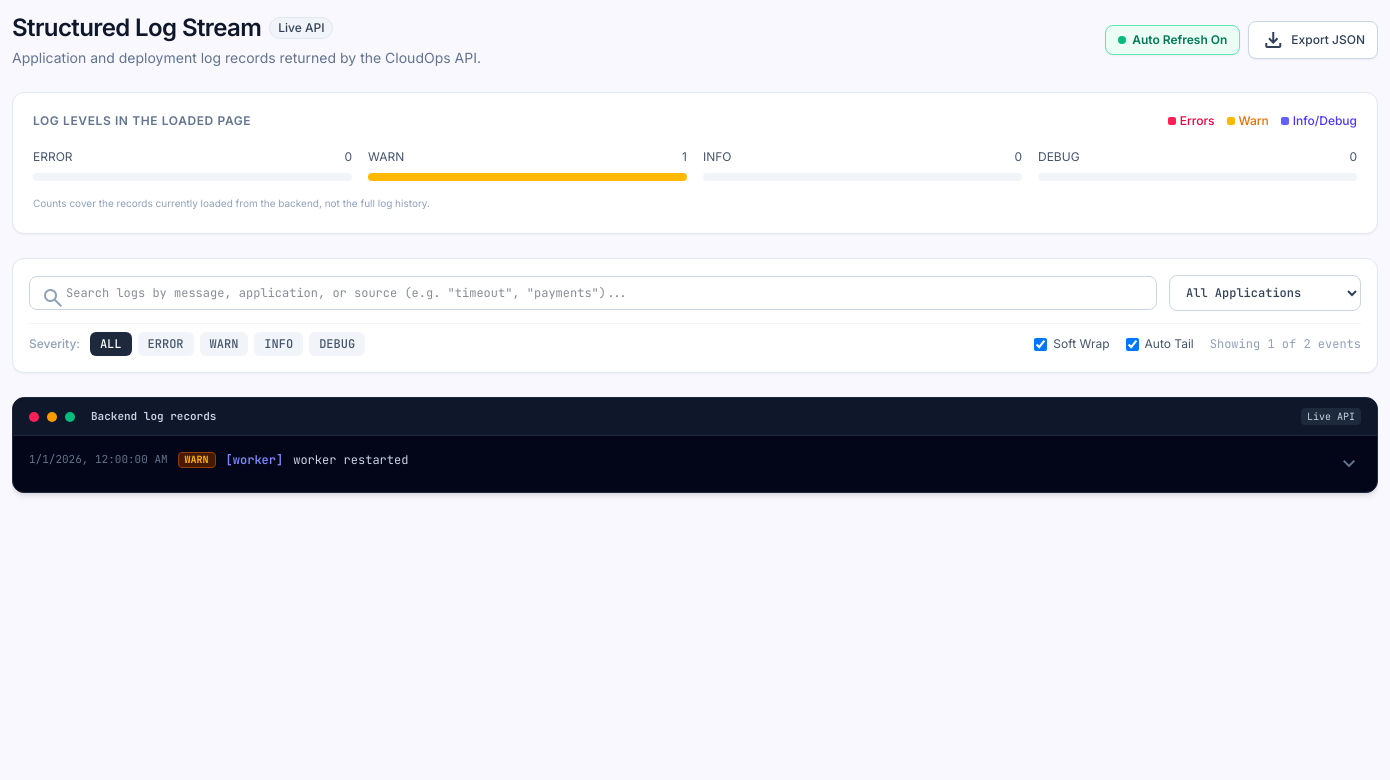
LogsPage › searches loaded message, application, and source values without requesting unloaded records
The image size is (1390, 780).
Expected: the text "worker restarted" is shown, [293,452,408,468]
Type "payments" into the field with placeholder "Search logs by message, application, or source" at coordinates (593, 293), box [29,276,1157,310]
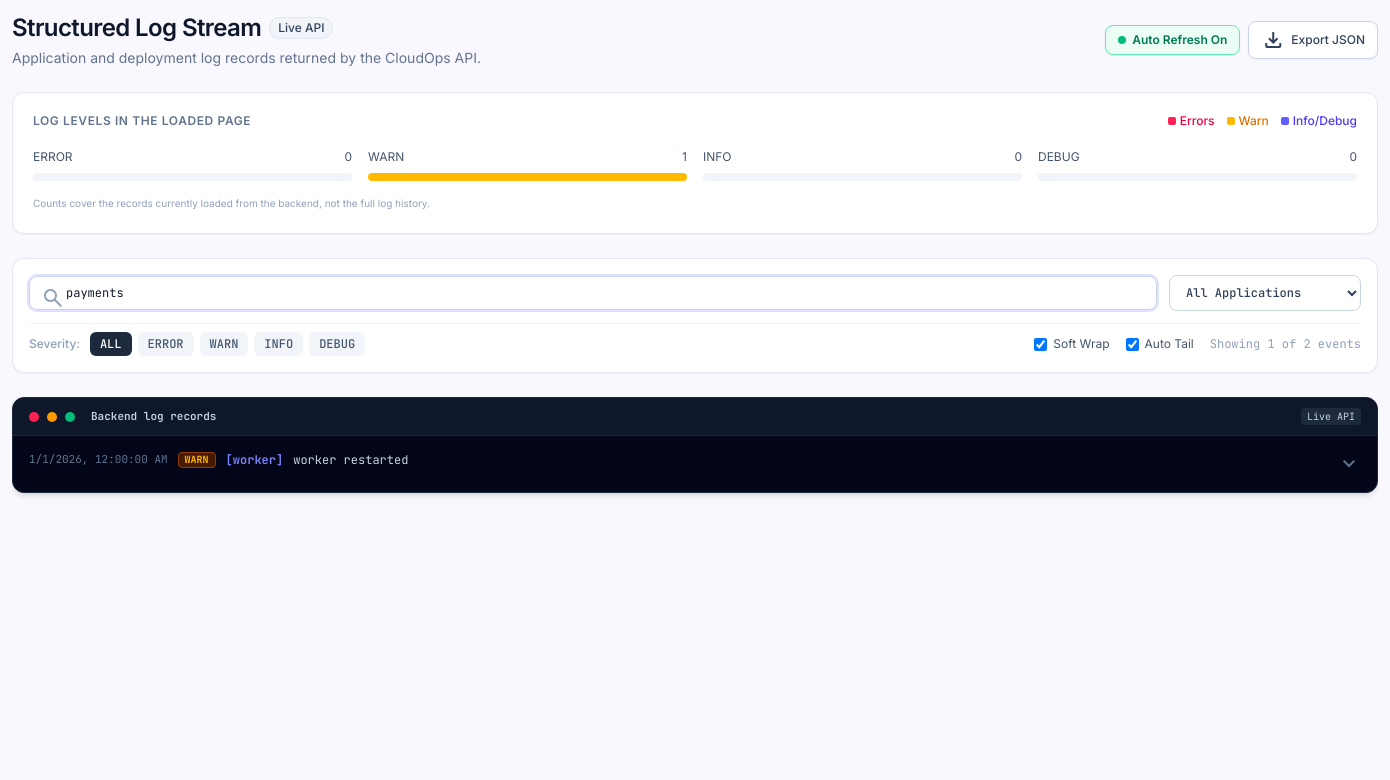
Expected: the text "worker restarted" is shown, [293,452,408,468]
Replace the text in the field with placeholder "Search logs by message, application, or source" with "record only on an unloaded page" at coordinates (593, 293), box [29,276,1157,310]
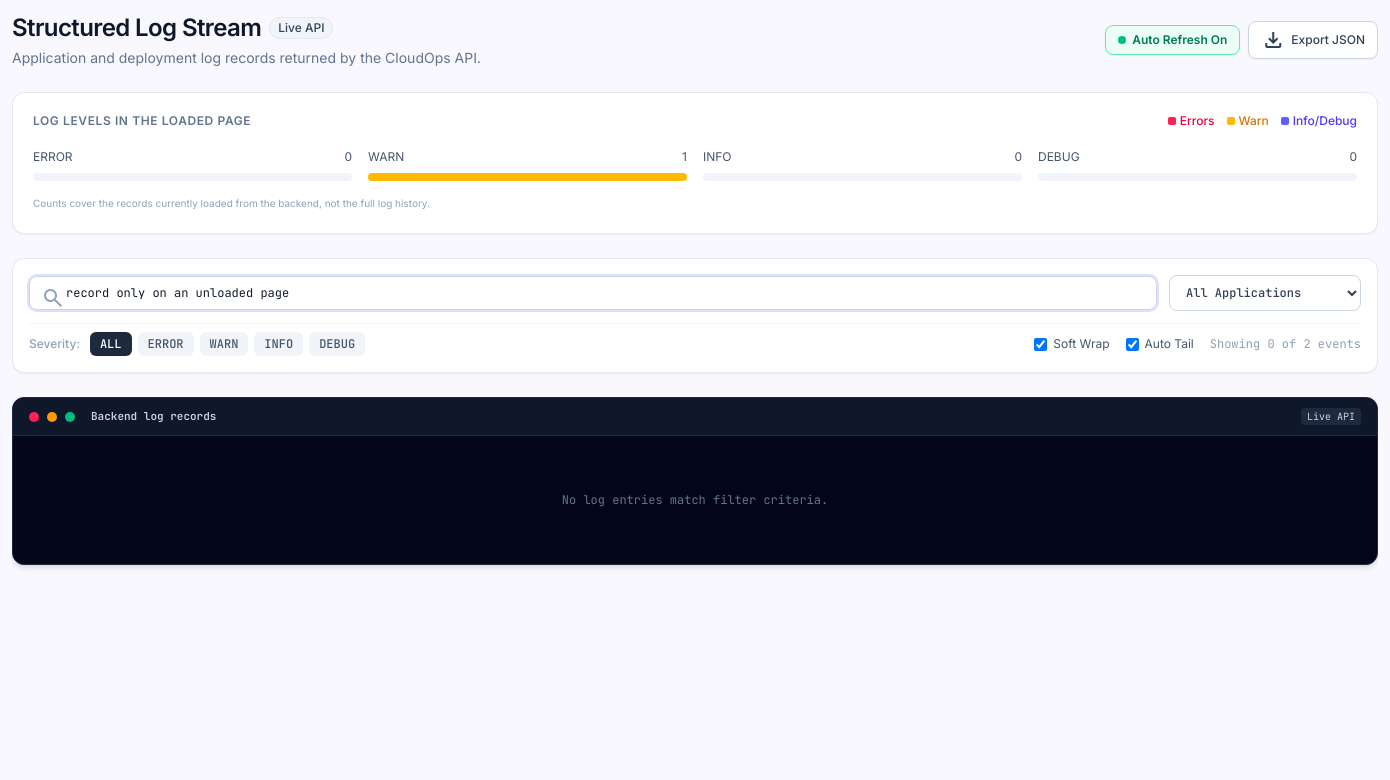
Now the text "No log entries match filter criteria." is shown, box [562,492,828,508]
